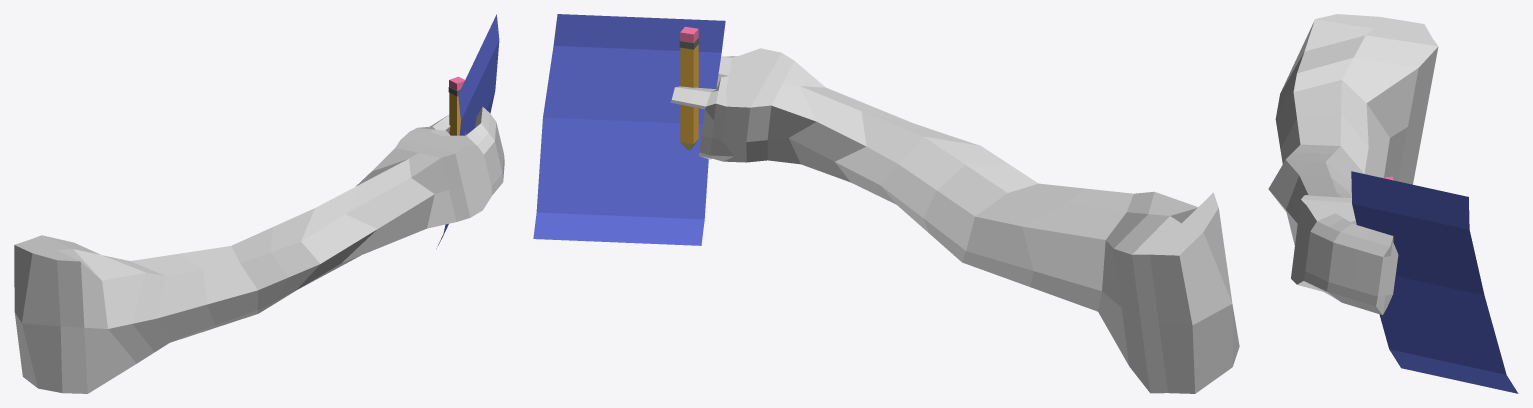
File: buildmode_arm.fbx
3 renders of one model, left to right at view 1: azimuth 30°, elevation 25°; view 2: azimuth 150°, elevation 25°; view 3: azimuth 270°, elevation 25°, orthographic. The views are drawn at different scales.
Visible parts, largest first — view 1: Arm; view 2: Arm; view 3: Arm.
Boxes of the visible parts, x1,y1,x2,y2 form: Arm: [14, 14, 504, 393]; Arm: [533, 14, 1239, 393]; Arm: [1268, 14, 1518, 393].
Bounding box in the file's own units: 166 × 66.71 × 59.81.
